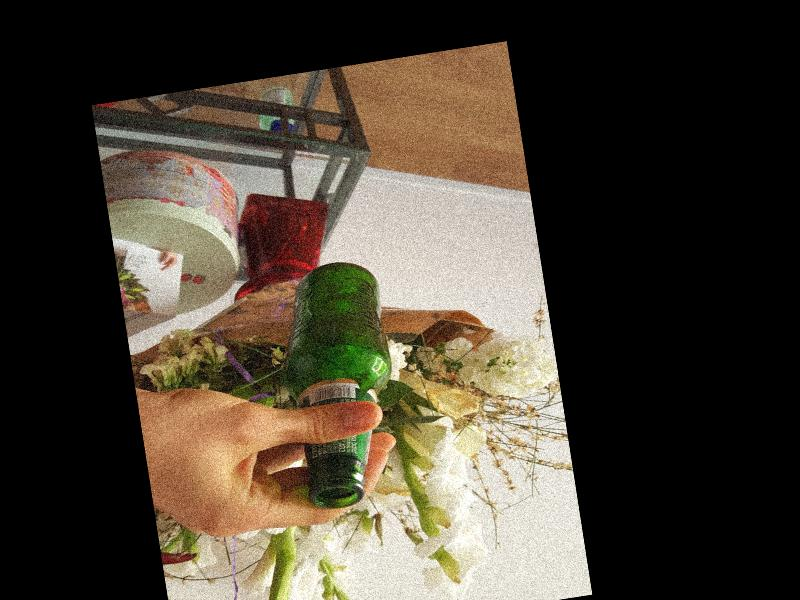Beer: (268, 255, 412, 511)
